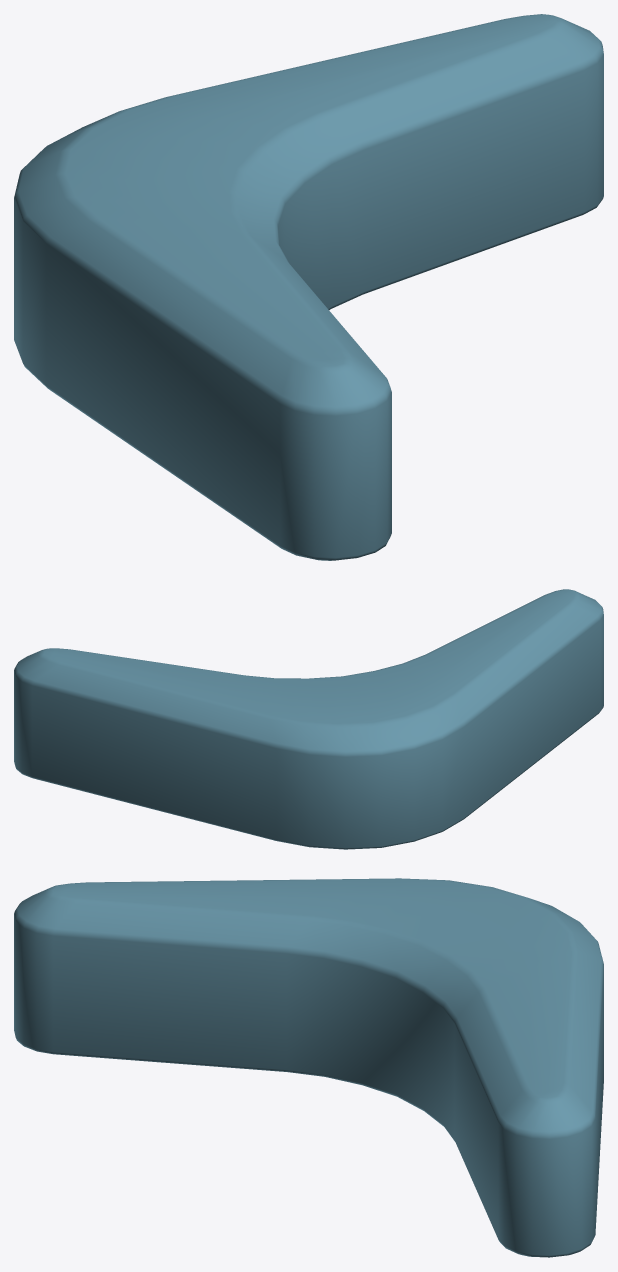
Rendered from Corner.fbx.
3 renders of one model, top to bottom at view 1: azimuth 30°, elevation 25°; view 2: azimuth 150°, elevation 25°; view 3: azimuth 270°, elevation 25°, orthographic. The views are drawn at different scales.
Visible parts, largest first — view 1: Corner; view 2: Corner; view 3: Corner.
Part boxes in pixels (x1,y1,x2,y2): Corner: [14, 14, 603, 560]; Corner: [14, 589, 603, 849]; Corner: [14, 878, 603, 1257].
Bounding box in the file's own units: 128 × 34.7 × 128.
